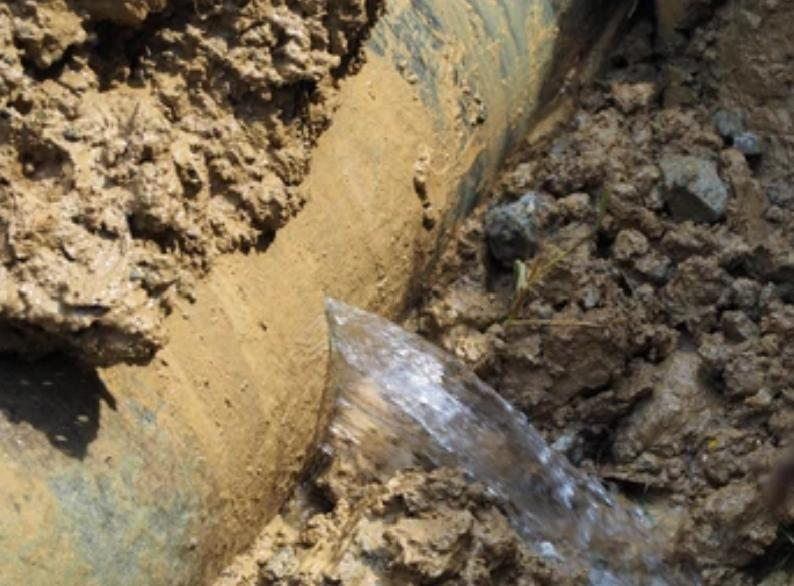pipe burst: (308, 292, 674, 586)
